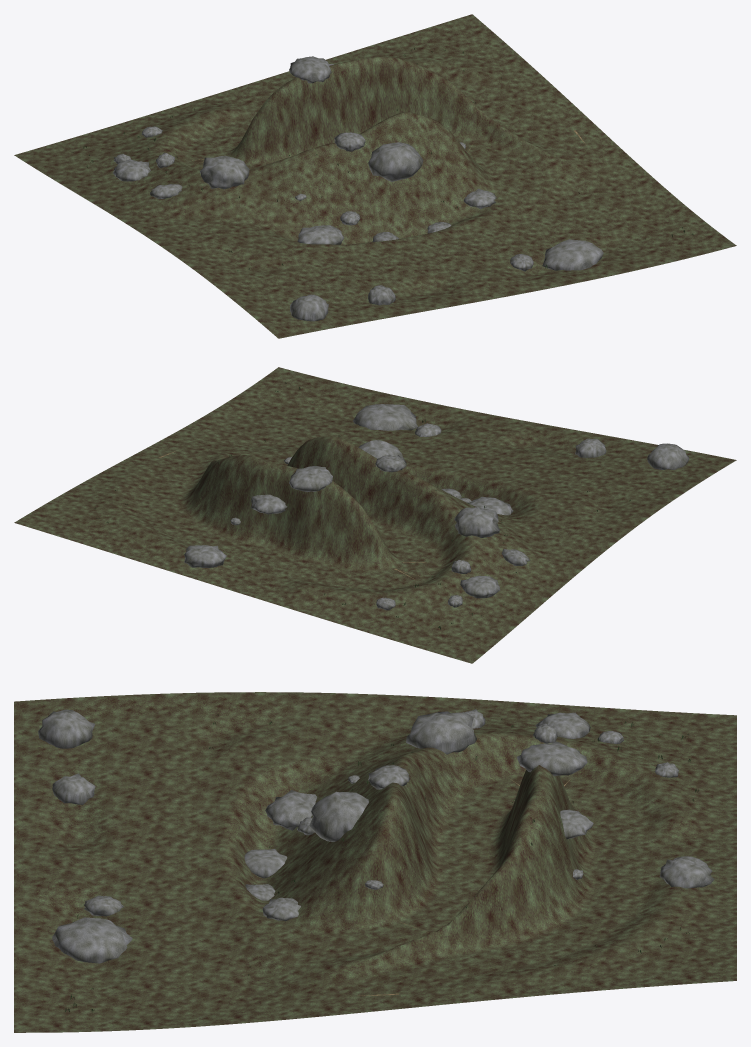
3 views of the same model, one above another, from view 1: azimuth 30°, elevation 25°; view 2: azimuth 150°, elevation 25°; view 3: azimuth 270°, elevation 25° (orthographic). The views are drawn at different scales.
Visible parts, largest first — view 1: VIS_Terrain_Surface, VIS_Boulder_Dressing; view 2: VIS_Terrain_Surface, VIS_Boulder_Dressing; view 3: VIS_Terrain_Surface, VIS_Boulder_Dressing.
Boxes of the visible parts, left/top/right/bottom form: VIS_Terrain_Surface: left=14, top=14, right=736, bottom=338; VIS_Boulder_Dressing: left=113, top=56, right=603, bottom=321; VIS_Terrain_Surface: left=14, top=367, right=736, bottom=663; VIS_Boulder_Dressing: left=184, top=404, right=689, bottom=610; VIS_Terrain_Surface: left=14, top=692, right=736, bottom=1032; VIS_Boulder_Dressing: left=38, top=709, right=714, bottom=963.
Size of the model in its own units: 32 by 7.41 by 32.
Materials: 5 (5 with a texture image).
